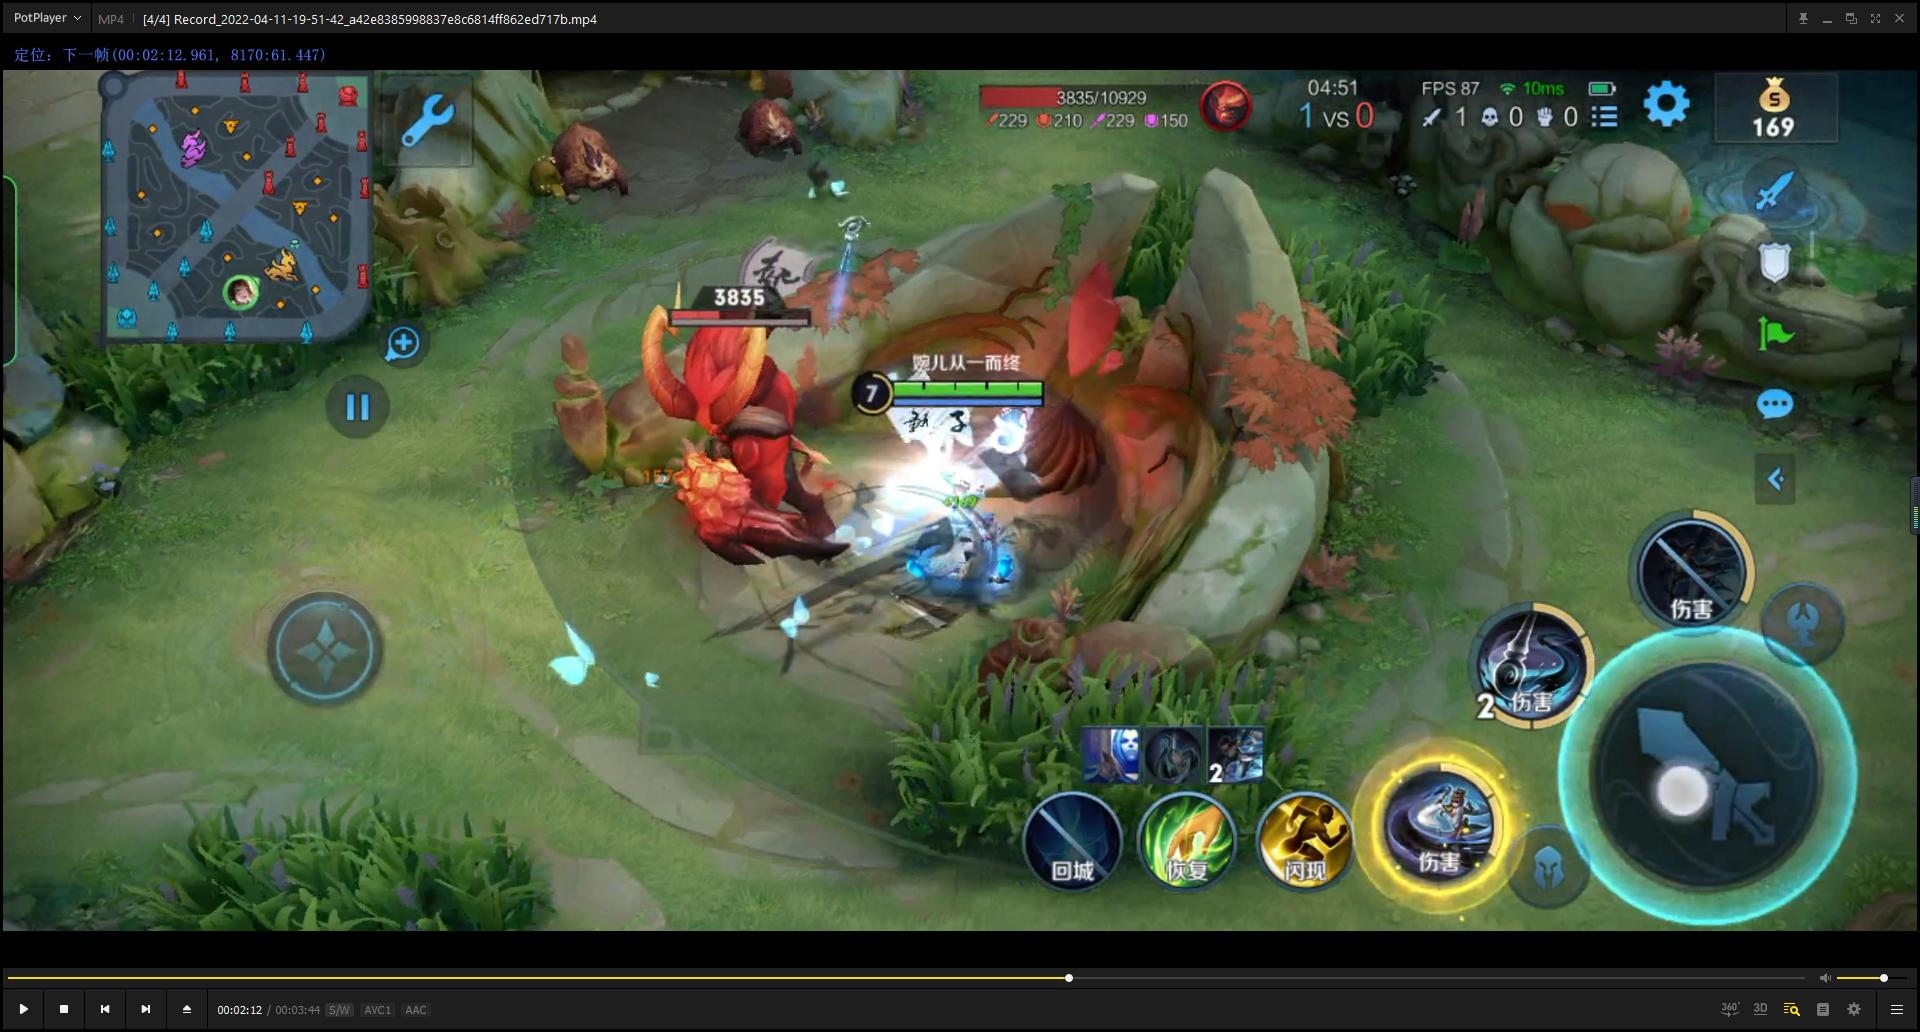Buff: (597, 282, 875, 625)
Hero: (855, 423, 1033, 643)
Pig: (522, 100, 656, 208), (720, 84, 809, 164)
